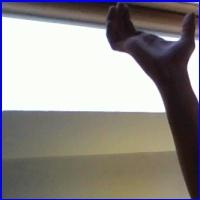space: (95, 4, 196, 76)
